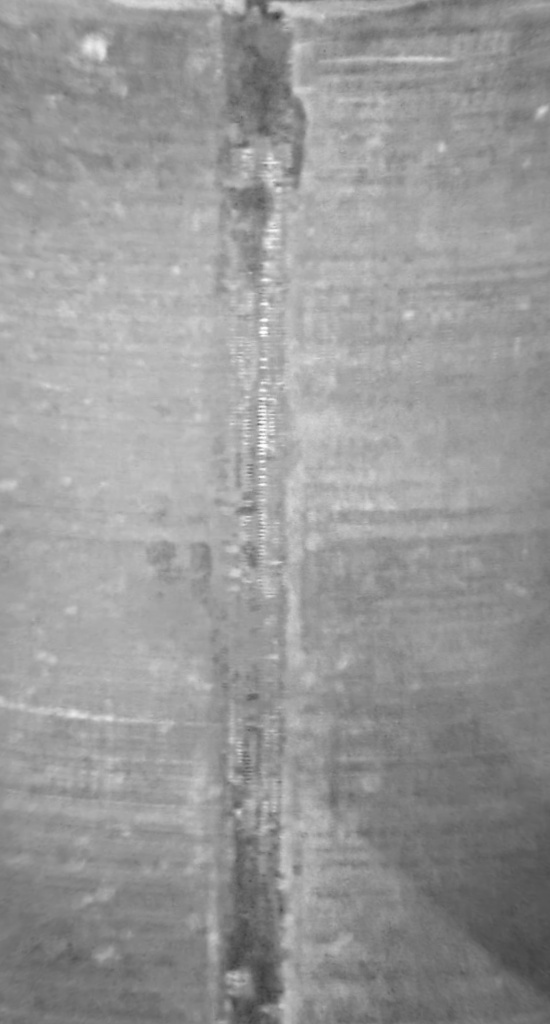splice: (213, 1, 310, 1024)
